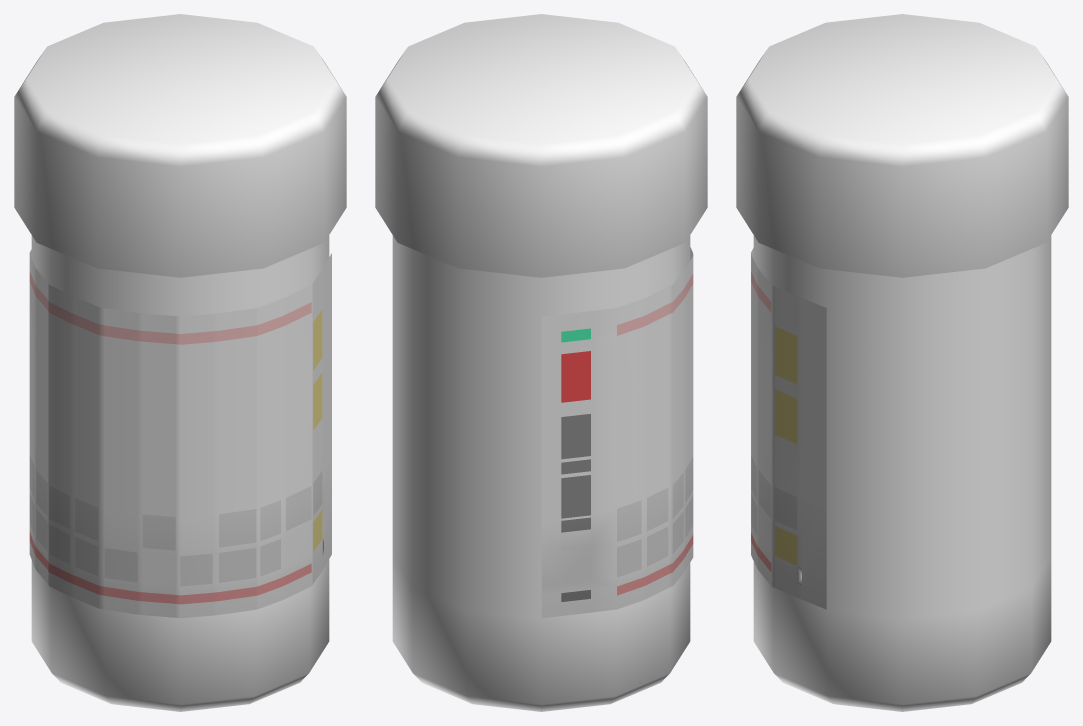
Rendered from human-household-items-pill-bottle_v1.glb.
3 renders of one model, left to right at view 1: azimuth 30°, elevation 25°; view 2: azimuth 150°, elevation 25°; view 3: azimuth 270°, elevation 25°, orthographic.
Parts seen in each view (by area): view 1: Pill Bottle; view 2: Pill Bottle; view 3: Pill Bottle.
Boxes of the visible parts, left/top/right/bottom form: Pill Bottle: left=14, top=14, right=346, bottom=711; Pill Bottle: left=375, top=14, right=707, bottom=711; Pill Bottle: left=736, top=14, right=1068, bottom=711.
Size of the model in its own units: 0.0524 by 0.1 by 0.0524.
